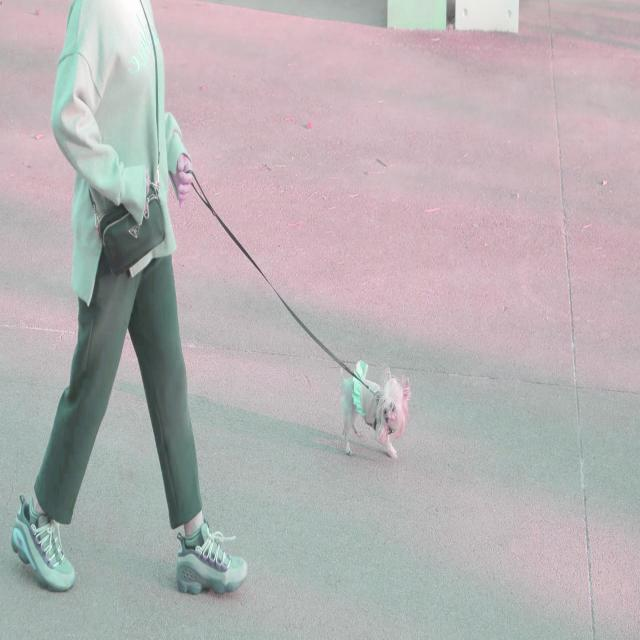Leashed_Dog: (133, 111, 412, 459)
